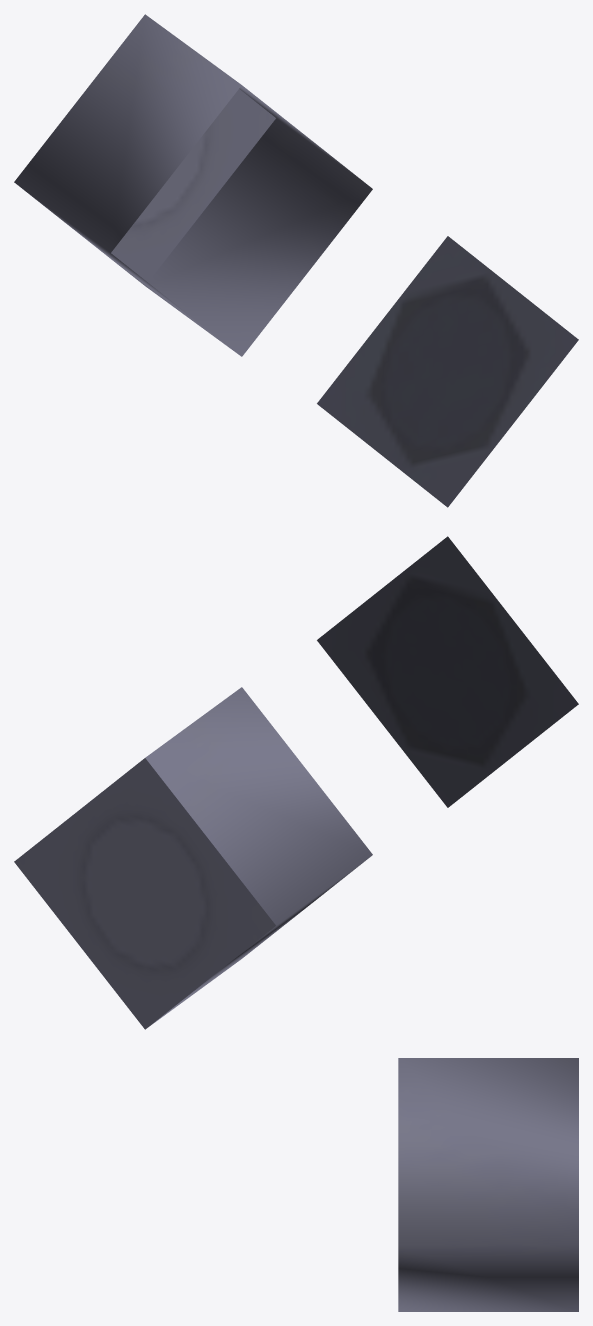
Rendered from obj_interactive_suspensionsport_off_lod1.fbx.
3 views of the same model, one above another, from view 1: azimuth 30°, elevation 25°; view 2: azimuth 150°, elevation 25°; view 3: azimuth 270°, elevation 25° (orthographic). The views are drawn at different scales.
Visible parts, largest first — view 1: obj_interactive_suspensionsport_off_lod1; view 2: obj_interactive_suspensionsport_off_lod1; view 3: obj_interactive_suspensionsport_off_lod1.
Part boxes in pixels (bbox=[...]): obj_interactive_suspensionsport_off_lod1: bbox=[14, 14, 578, 507]; obj_interactive_suspensionsport_off_lod1: bbox=[14, 536, 578, 1029]; obj_interactive_suspensionsport_off_lod1: bbox=[398, 1058, 578, 1311].
Size of the model in its own units: 1 by 0.9908 by 2.
1 material, 1 textured.
